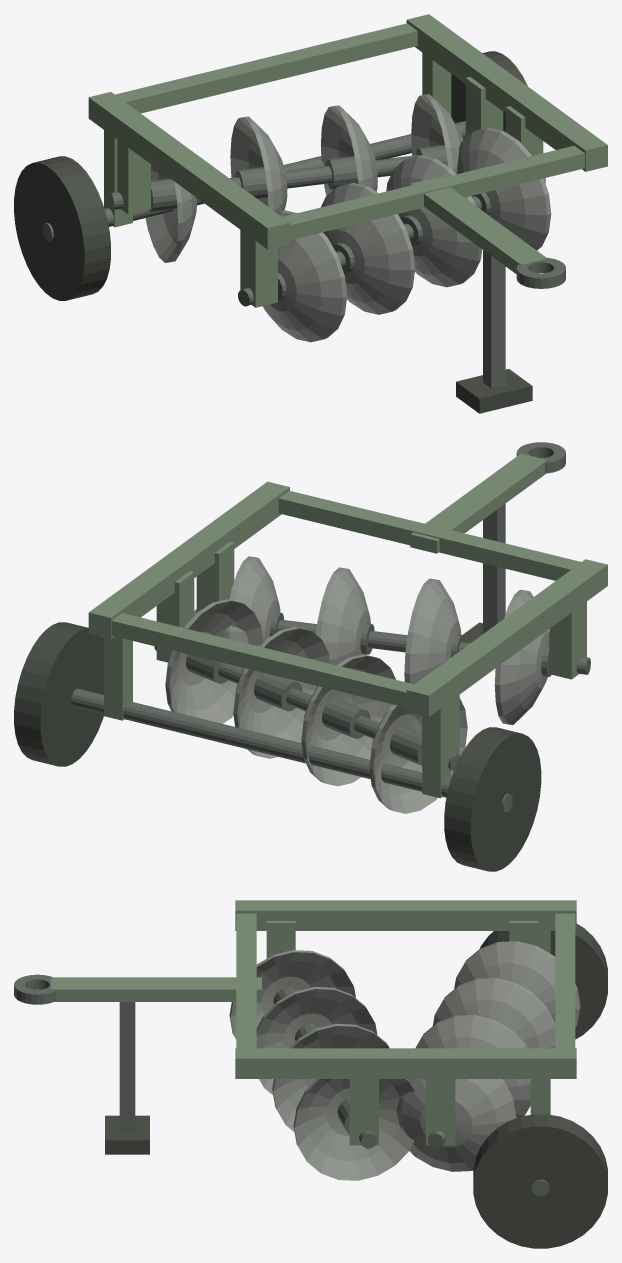
3 renders of one model, top to bottom at view 1: azimuth 30°, elevation 25°; view 2: azimuth 150°, elevation 25°; view 3: azimuth 270°, elevation 25°, orthographic. The views are drawn at different scales.
Parts seen in each view (by area): view 1: WholeFiniteSoleTransportWheel0, WholeLongOpenFrameSideRail0, WholeFrameEndCrossbeam1, WholeLongOpenFrameSideRail1, WholeFrameEndCrossbeam0, WholeConcaveGangDisc0_1, WholeConcaveGangDisc0_0, WholeConcaveGangDisc0_3, WholeConcaveGangDisc0_2, WholeLongFrontDrawBeam, WholeConcaveGangDisc1_1, WholeFrontParkingLeg (+17 smaller); view 2: WholeFiniteSoleTransportWheel0, WholeFiniteSoleTransportWheel1, WholeLongOpenFrameSideRail0, WholeFrameEndCrossbeam1, WholeLongOpenFrameSideRail1, WholeFrameEndCrossbeam0, WholeRearTransportWheelAxle, WholeConcaveGangDisc1_3, WholeConcaveGangDisc1_2, WholeConcaveGangDisc1_1, WholeLongFrontDrawBeam, WholeConcaveGangDisc0_1 (+17 smaller); view 3: WholeFiniteSoleTransportWheel1, WholeLongOpenFrameSideRail1, WholeLongOpenFrameSideRail0, WholeConcaveGangDisc0_3, WholeConcaveGangDisc1_3, WholeConcaveGangDisc1_1, WholeLongFrontDrawBeam, WholeConcaveGangDisc0_1, WholeConcaveGangDisc1_0, WholeConcaveGangDisc0_0, WholeConcaveGangDisc1_2, WholeFiniteSoleTransportWheel0 (+11 smaller).
Part boxes in pixels (x1,y1,x2,y2): WholeFiniteSoleTransportWheel0: [14, 156, 110, 300]; WholeLongOpenFrameSideRail0: [88, 92, 289, 249]; WholeFrameEndCrossbeam1: [115, 23, 417, 113]; WholeLongOpenFrameSideRail1: [406, 14, 607, 171]; WholeFrameEndCrossbeam0: [282, 145, 584, 240]; WholeConcaveGangDisc0_1: [321, 183, 415, 314]; WholeConcaveGangDisc0_0: [263, 210, 347, 342]; WholeConcaveGangDisc0_3: [457, 127, 551, 250]; WholeConcaveGangDisc0_2: [386, 155, 482, 287]; WholeLongFrontDrawBeam: [410, 177, 547, 273]; WholeConcaveGangDisc1_1: [230, 116, 287, 212]; WholeFrontParkingLeg: [483, 250, 505, 388]; WholeFiniteSoleTransportWheel0: [444, 727, 541, 871]; WholeFiniteSoleTransportWheel1: [14, 622, 103, 766]; WholeLongOpenFrameSideRail0: [406, 559, 607, 716]; WholeFrameEndCrossbeam1: [111, 613, 413, 707]; WholeLongOpenFrameSideRail1: [88, 481, 289, 639]; WholeFrameEndCrossbeam0: [278, 490, 581, 580]; WholeRearTransportWheelAxle: [71, 688, 512, 812]; WholeConcaveGangDisc1_3: [165, 599, 263, 723]; WholeConcaveGangDisc1_2: [233, 627, 330, 758]; WholeConcaveGangDisc1_1: [301, 654, 395, 786]; WholeLongFrontDrawBeam: [410, 453, 547, 553]; WholeConcaveGangDisc0_1: [404, 578, 461, 684]; WholeFiniteSoleTransportWheel1: [473, 1114, 607, 1248]; WholeLongOpenFrameSideRail1: [235, 1048, 576, 1078]; WholeLongOpenFrameSideRail0: [235, 900, 576, 930]; WholeConcaveGangDisc0_3: [293, 1079, 414, 1180]; WholeConcaveGangDisc1_3: [396, 1079, 516, 1171]; WholeConcaveGangDisc1_1: [433, 978, 555, 1048]; WholeLongFrontDrawBeam: [51, 977, 261, 1001]; WholeConcaveGangDisc0_1: [256, 987, 377, 1095]; WholeConcaveGangDisc1_0: [454, 941, 580, 1027]; WholeConcaveGangDisc0_0: [229, 950, 355, 1039]; WholeConcaveGangDisc1_2: [415, 1015, 530, 1117]; WholeFiniteSoleTransportWheel0: [479, 924, 607, 1039].
Bounding box in the file's own units: 2.26 × 0.8 × 2.64.
